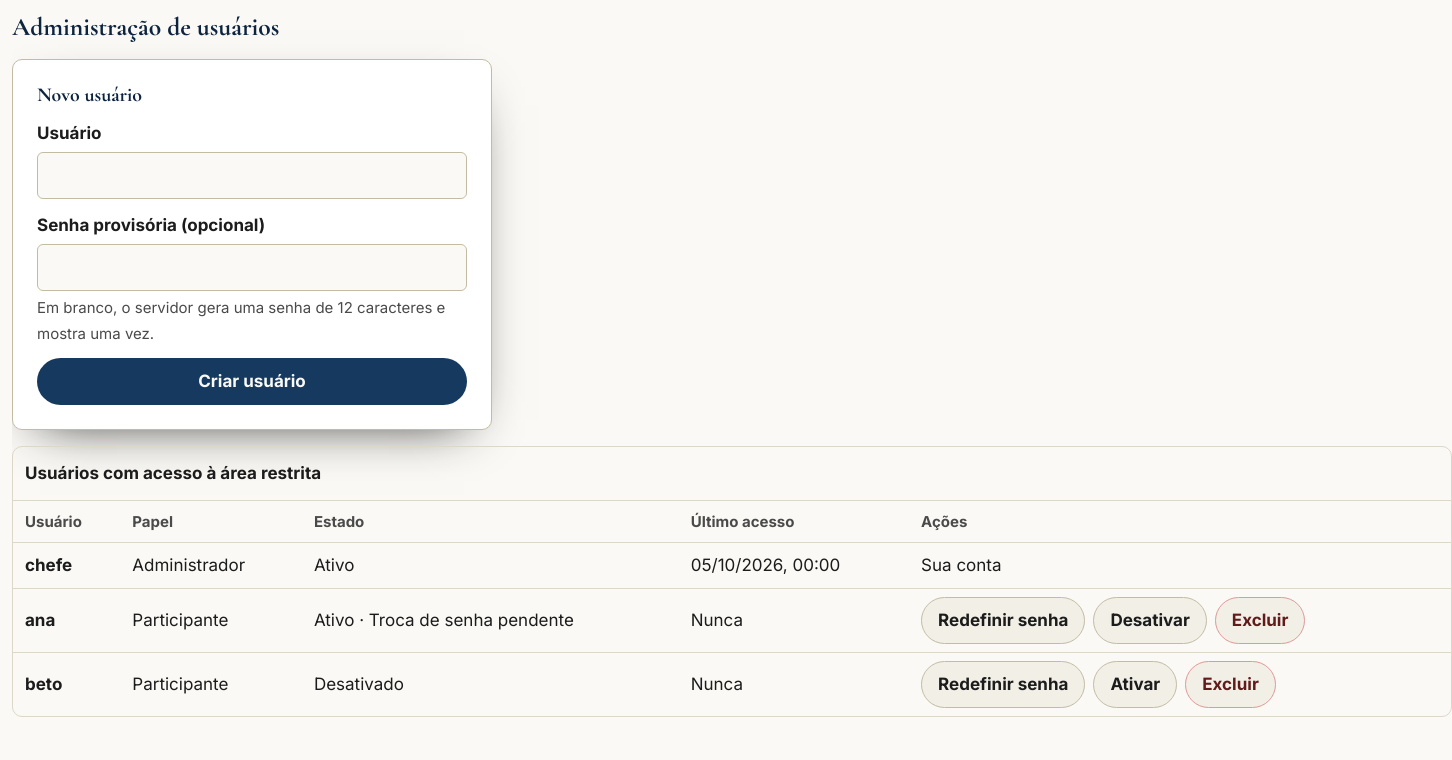
PainelAdmin › copiar usa a área de transferência e avisa o resultado
Click the button "Redefinir senha" in the row of "ana" at (1003, 621), box [921,597,1085,644]
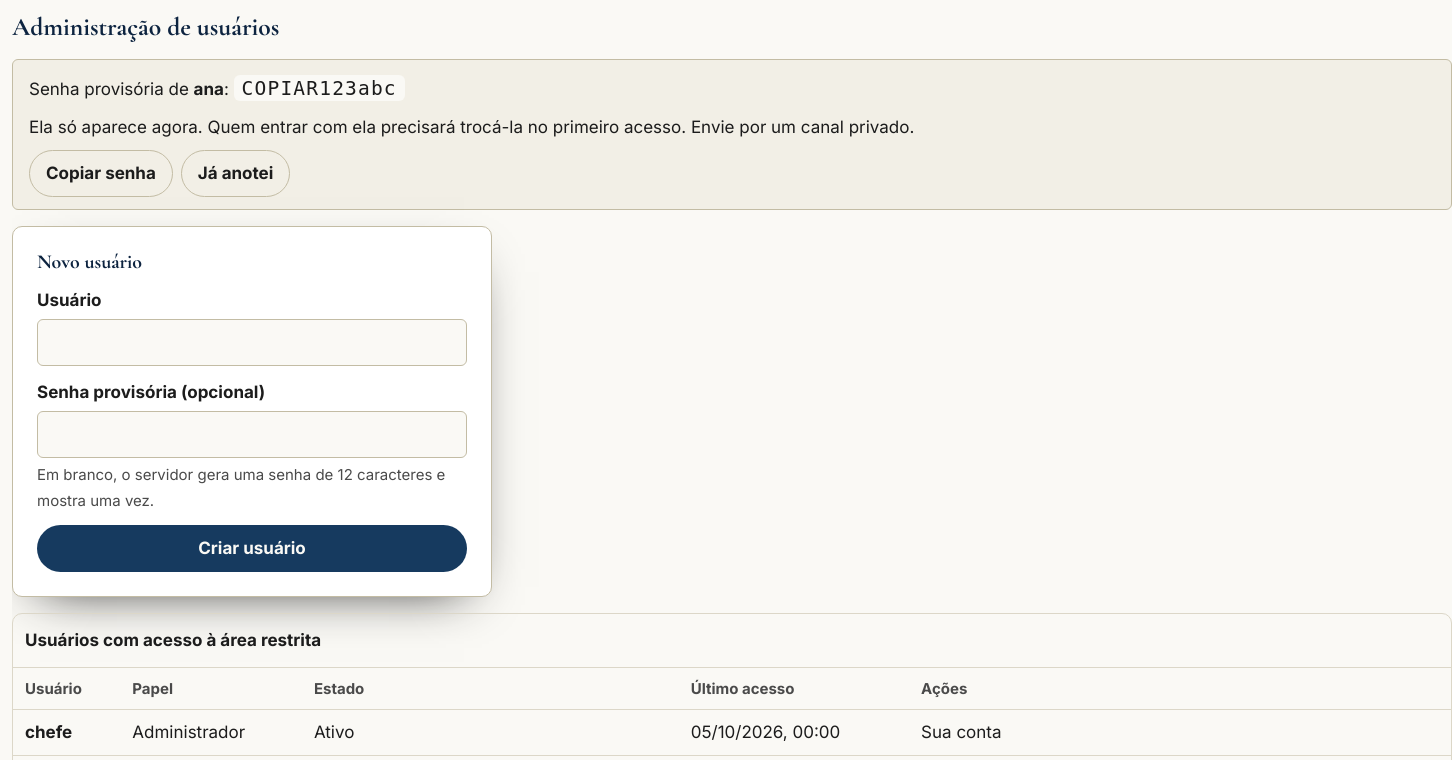
Click the button "Copiar senha" at (101, 173), box [29,150,173,197]
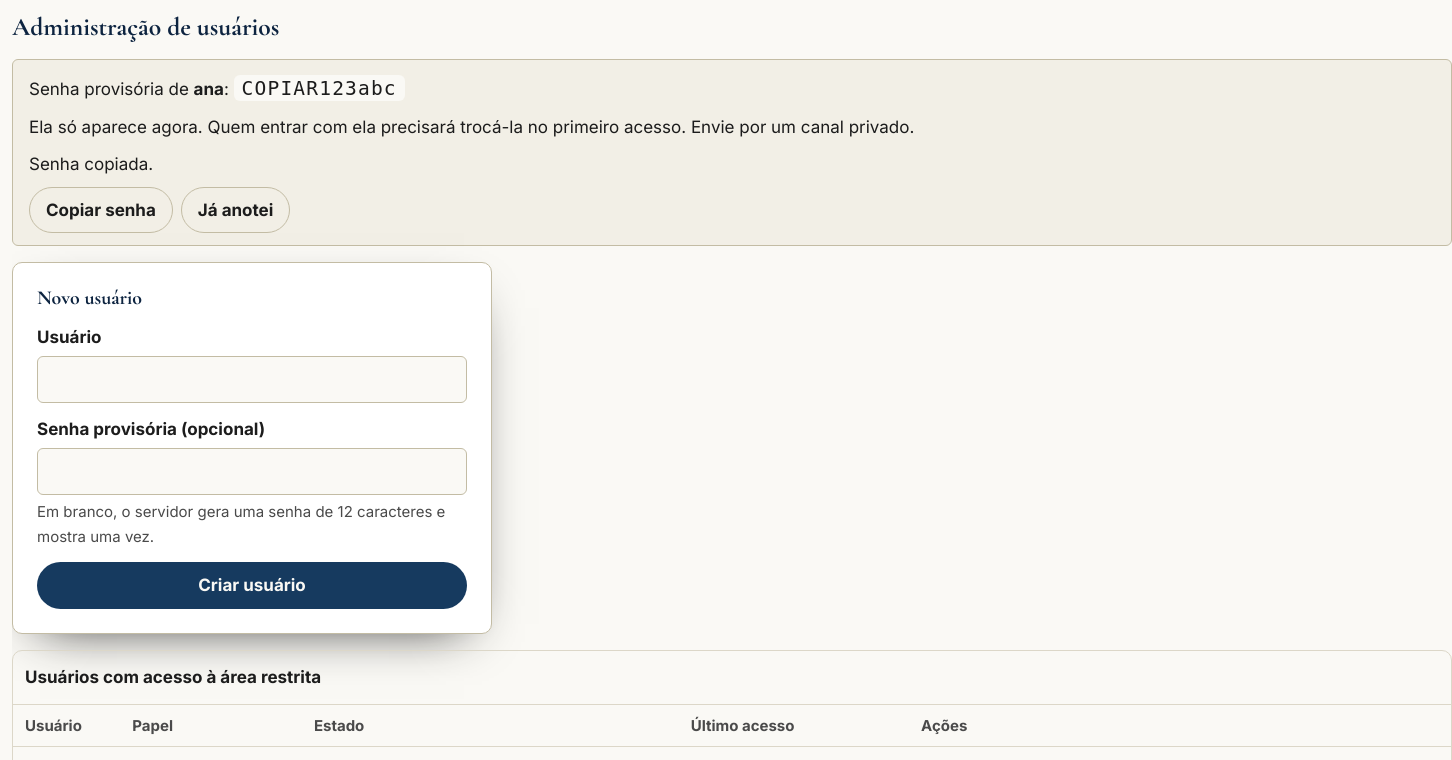
Now the message with class "ar-admin__provisoria" shows "copiada", box [29,154,153,174]
